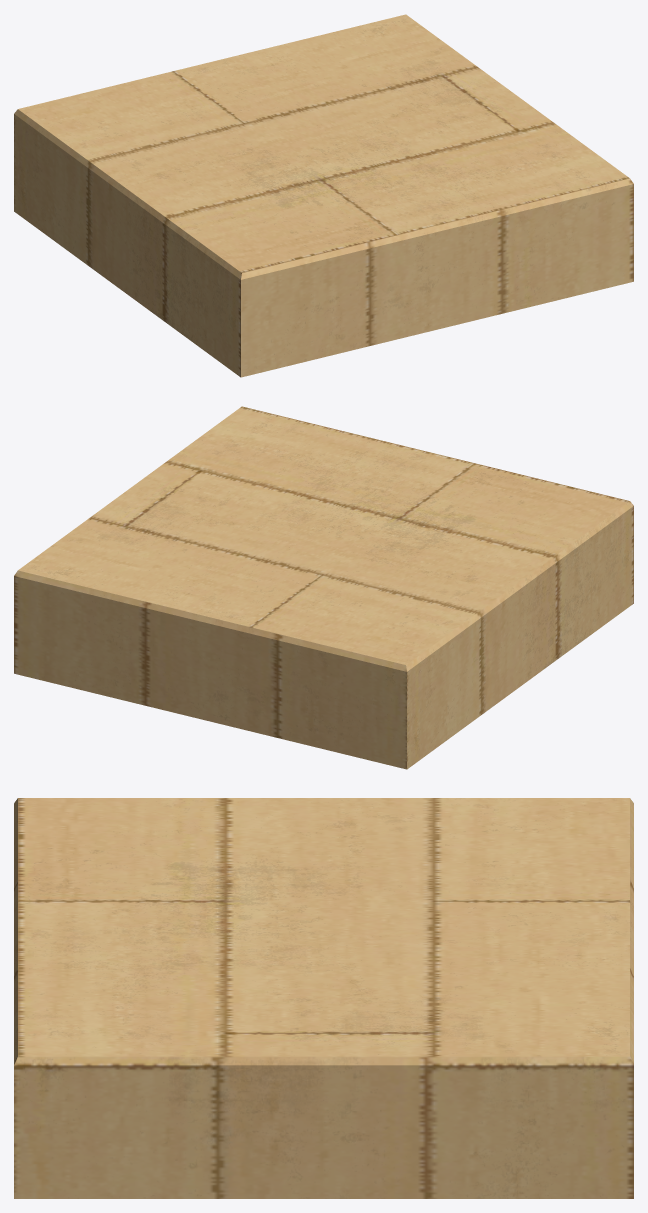
The model's file is Ground_Battlefield.fbx.
3 renders of one model, top to bottom at view 1: azimuth 30°, elevation 25°; view 2: azimuth 150°, elevation 25°; view 3: azimuth 270°, elevation 25°, orthographic. The views are drawn at different scales.
Visible parts, largest first — view 1: floor_battlefield; view 2: floor_battlefield; view 3: floor_battlefield.
Part boxes in pixels (<box>): floor_battlefield: <box>14,14,633,377</box>; floor_battlefield: <box>14,406,633,769</box>; floor_battlefield: <box>14,798,633,1198</box>.
Bounding box in the file's own units: 200 × 50 × 200.
Materials: 1 (1 with a texture image).
